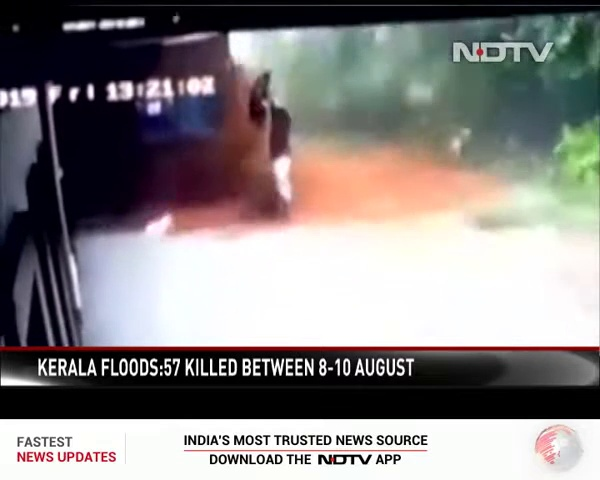person: (266, 94, 295, 207)
